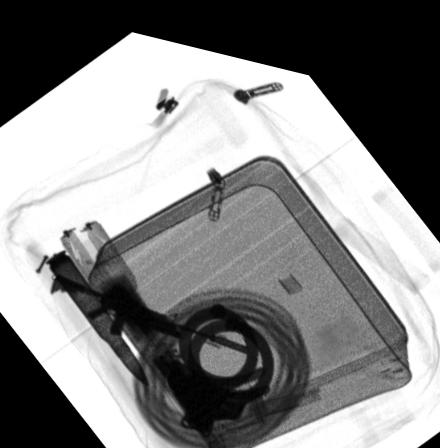Baton: (58, 214, 236, 433)
Bullet: (43, 245, 149, 377)
Gun: (47, 269, 252, 343)
HandCuffs: (165, 289, 272, 428)
